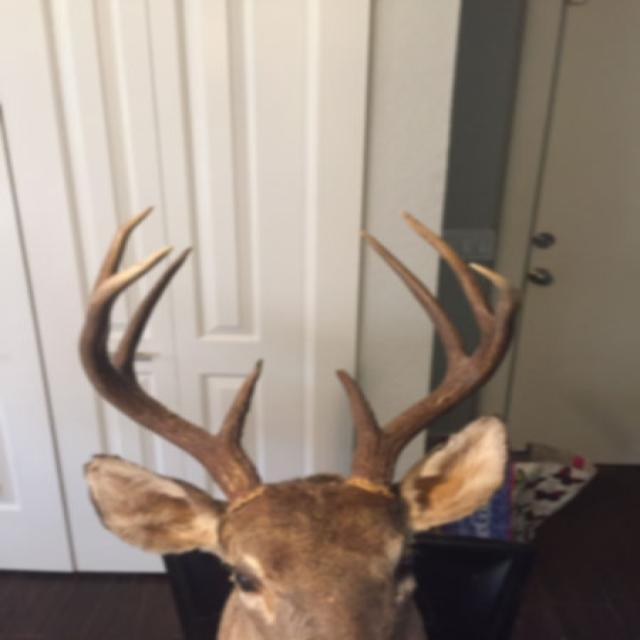L-F: (340, 261, 518, 497)
L-G1: (335, 366, 383, 441)
L-G2: (356, 227, 470, 379)
L-G3: (399, 209, 496, 337)
R-F: (78, 244, 266, 510)
R-G1: (215, 358, 264, 446)
R-G2: (110, 245, 195, 384)
